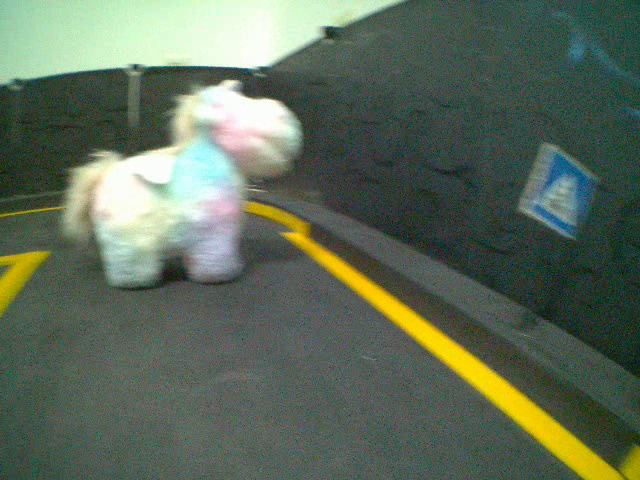unicorn: (63, 77, 306, 292)
